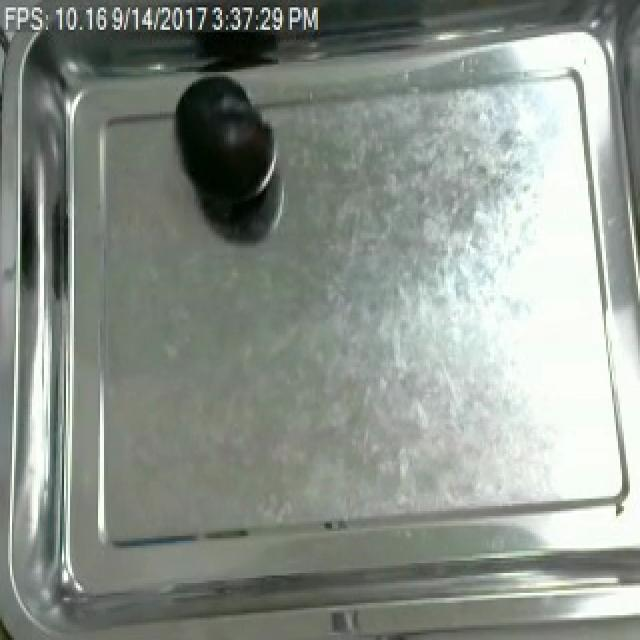Fruit: (168, 67, 282, 218)
